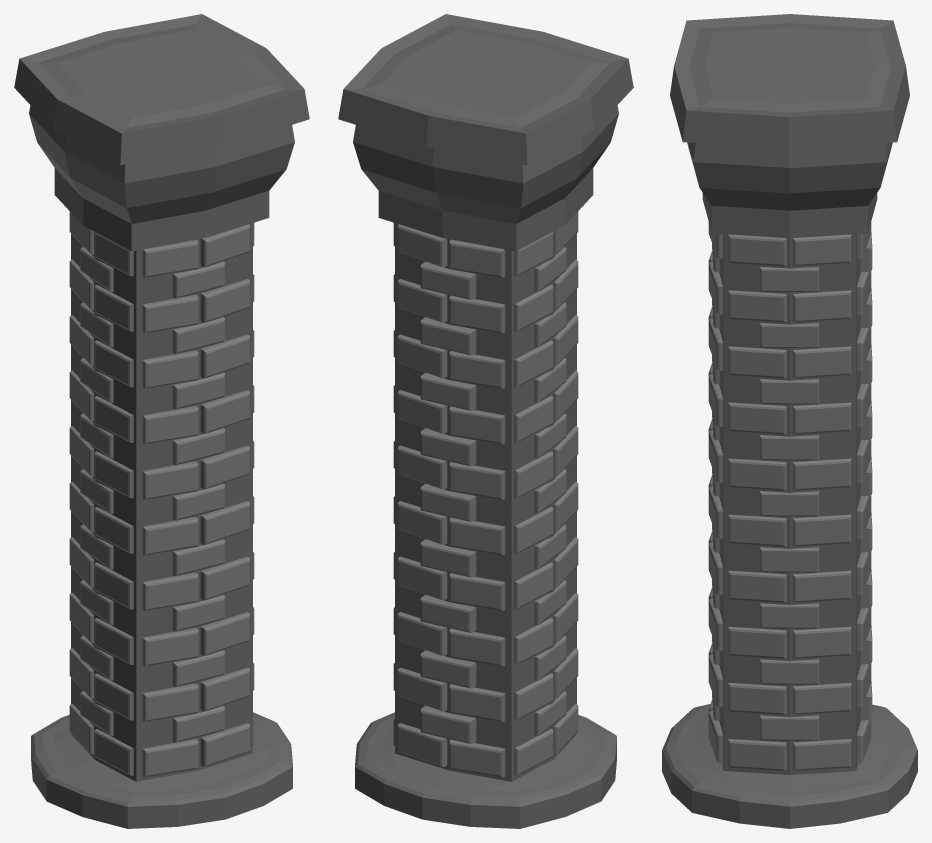
Rendered from broken_FlaskSquare.fbx_floor3.fbx_pillers.fbx.
The picture shows the model from 3 angles, left to right: view 1: azimuth 30°, elevation 25°; view 2: azimuth 150°, elevation 25°; view 3: azimuth 270°, elevation 25°; orthographic projection.
Parts seen in each view (by area): view 1: Cube.003; view 2: Cube.003; view 3: Cube.003.
Part boxes in pixels (bbox=[...]): Cube.003: bbox=[14, 14, 309, 828]; Cube.003: bbox=[338, 14, 633, 828]; Cube.003: bbox=[662, 14, 917, 828].
Bounding box in the file's own units: 64.78 × 188 × 61.55.
